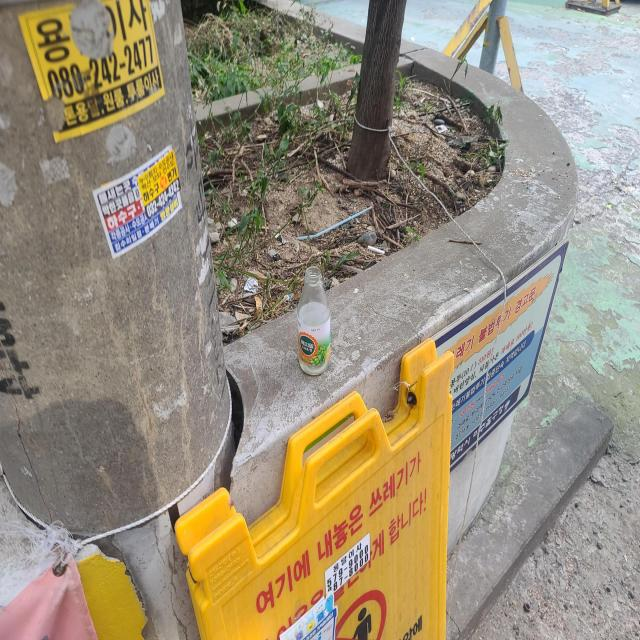glass: (297, 266, 330, 376)
